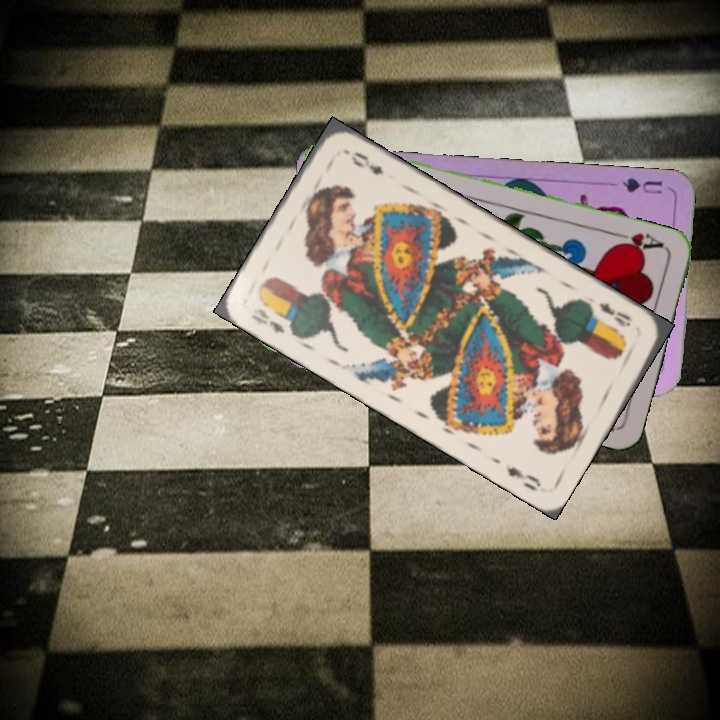EO: (246, 303, 288, 336), (595, 297, 633, 330)
GU: (618, 174, 665, 197)
HA: (609, 228, 666, 255)
